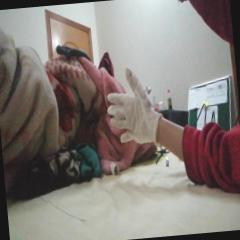gloved: (104, 65, 164, 145)
